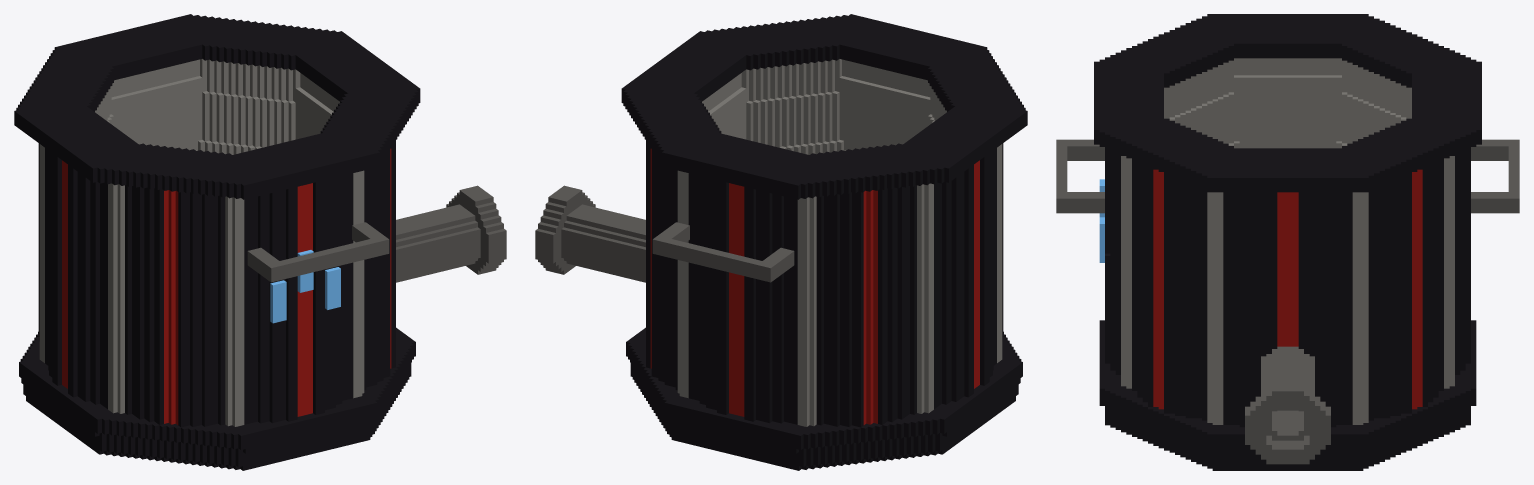
Rendered from demon_forge.glb.
The picture shows the model from 3 angles, left to right: view 1: azimuth 30°, elevation 25°; view 2: azimuth 150°, elevation 25°; view 3: azimuth 270°, elevation 25°; orthographic projection. The views are drawn at different scales.
Visible parts, largest first — view 1: demon_forge:compound; view 2: demon_forge:compound; view 3: demon_forge:compound.
Part boxes in pixels (left/top/right/bottom): demon_forge:compound: left=14, top=14, right=506, bottom=470; demon_forge:compound: left=535, top=14, right=1027, bottom=470; demon_forge:compound: left=1056, top=14, right=1519, bottom=470.
Size of the model in its own units: 0.38 by 0.244 by 0.344.
